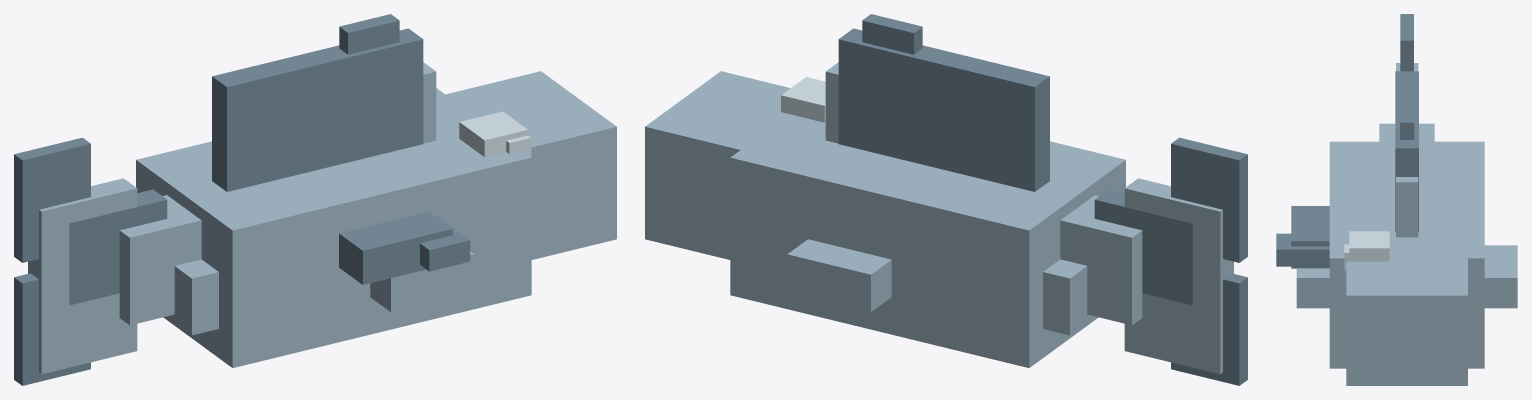
File: fish_mist_goby.glb
3 views of the same model, side by side, from view 1: azimuth 30°, elevation 25°; view 2: azimuth 150°, elevation 25°; view 3: azimuth 270°, elevation 25° (orthographic). The views are drawn at different scales.
Visible parts, largest first — view 1: FishArt_body, FishArt_dorsal, FishArt_tail, FishArt_pectoral, FishArt_eye; view 2: FishArt_body, FishArt_dorsal, FishArt_tail, FishArt_eye; view 3: FishArt_body, FishArt_pectoral, FishArt_dorsal, FishArt_eye, FishArt_tail.
Boxes of the visible parts, box(x1,y1,x2,y2) form: FishArt_body: box(28, 62, 616, 374); FishArt_dorsal: box(212, 14, 423, 191); FishArt_tail: box(14, 137, 167, 385); FishArt_pectoral: box(339, 211, 470, 284); FishArt_eye: box(459, 111, 531, 156); FishArt_body: box(645, 62, 1233, 374); FishArt_dorsal: box(838, 14, 1049, 191); FishArt_tail: box(1094, 137, 1247, 385); FishArt_eye: box(781, 77, 825, 122); FishArt_body: box(1296, 63, 1517, 385); FishArt_pectoral: box(1276, 206, 1329, 268); FishArt_dorsal: box(1395, 71, 1418, 231); FishArt_eye: box(1344, 231, 1389, 270); FishArt_tail: box(1400, 14, 1413, 71).
Size of the model in its own units: 0.3091 by 0.1442 by 0.1439.
